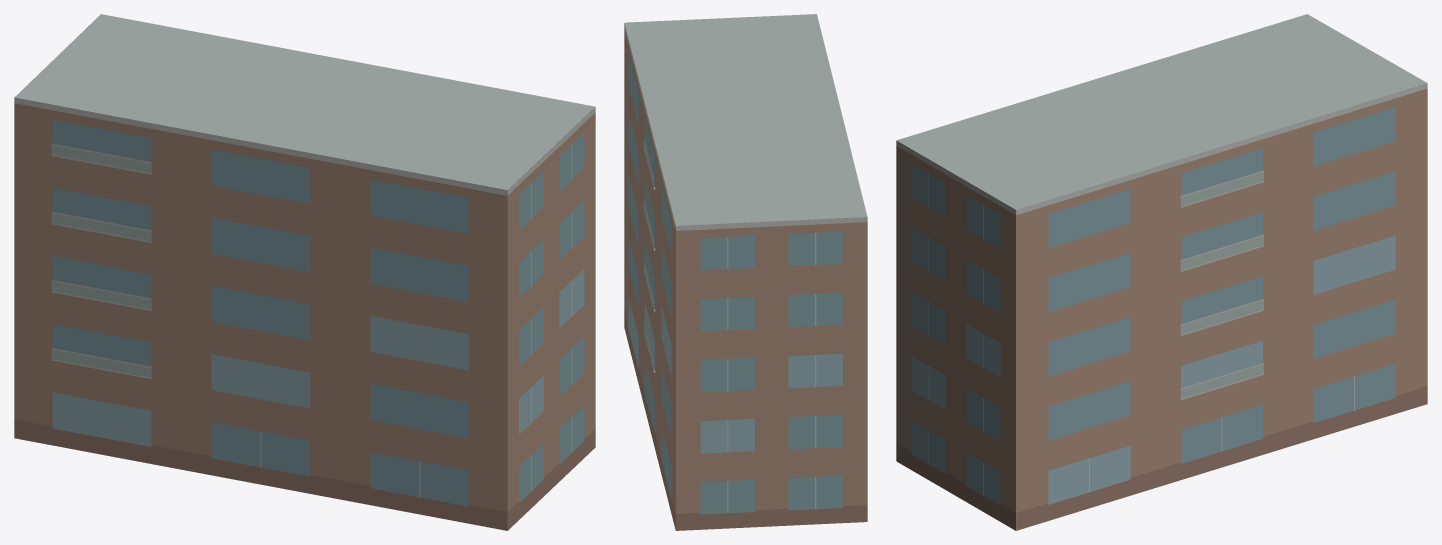
File: survey-upis-32662443.glb
3 renders of one model, left to right at view 1: azimuth 30°, elevation 25°; view 2: azimuth 150°, elevation 25°; view 3: azimuth 270°, elevation 25°, orthographic. The views are drawn at different scales.
Visible parts, largest first — view 1: survey-upis-32662443.tmp; view 2: survey-upis-32662443.tmp; view 3: survey-upis-32662443.tmp.
Boxes of the visible parts, x1,y1,x2,y2 form: survey-upis-32662443.tmp: (14,14,595,530); survey-upis-32662443.tmp: (624,14,867,530); survey-upis-32662443.tmp: (896,14,1427,530).
Bounding box in the file's own units: 19.13 × 14.6 × 21.92.
